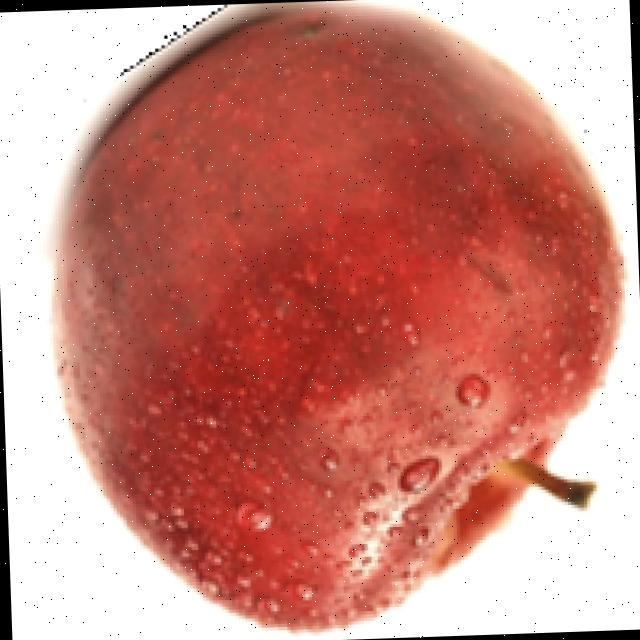apple: (42, 1, 632, 638)
